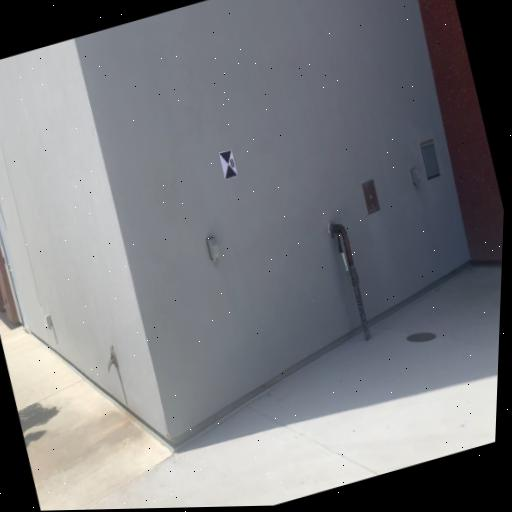target8: (218, 148, 239, 180)
